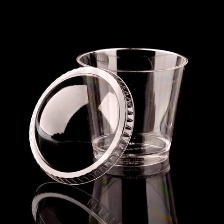glass: (71, 42, 191, 180)
